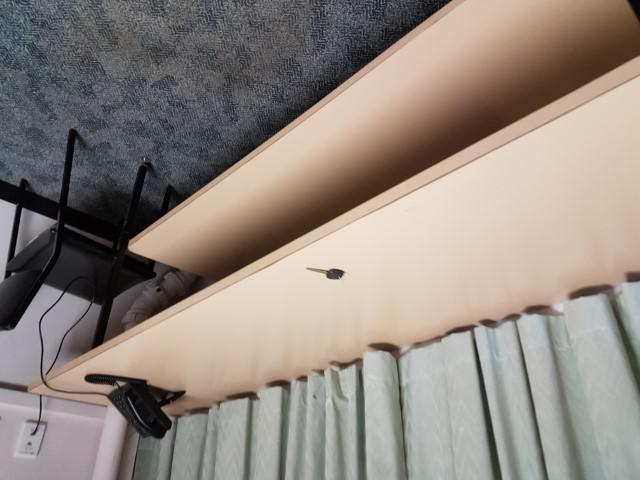key: (305, 264, 345, 282)
